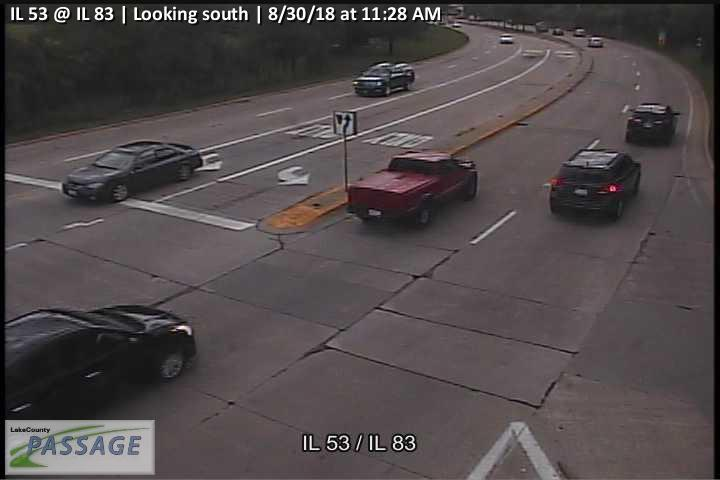SUV: (4, 305, 196, 428), (549, 148, 641, 222), (625, 102, 681, 146), (352, 63, 416, 97), (587, 35, 603, 47), (573, 28, 586, 37)
Sedan: (63, 141, 204, 202), (499, 31, 513, 43), (552, 27, 564, 36)
Truck: (347, 148, 478, 224)
